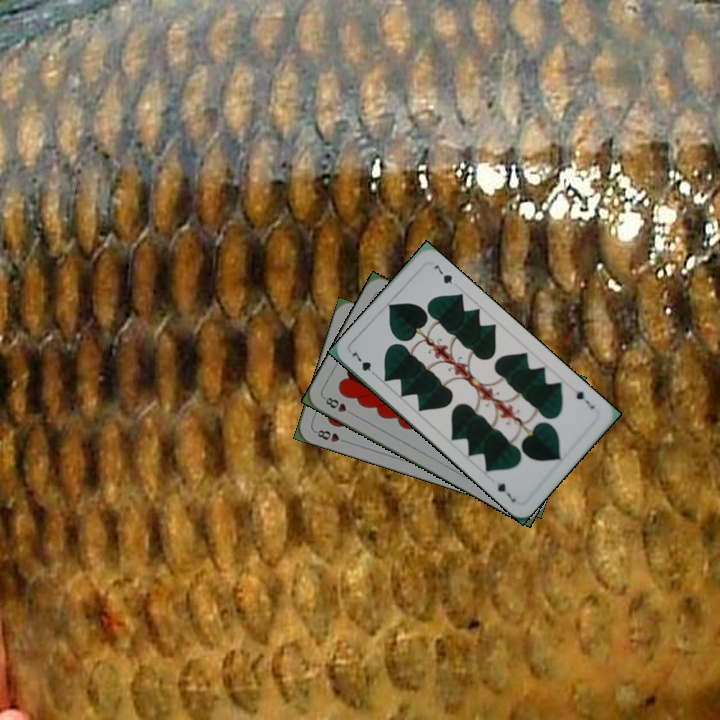G7: (347, 347, 380, 379), (572, 387, 597, 412)
H8: (320, 393, 358, 418), (311, 425, 350, 445)
